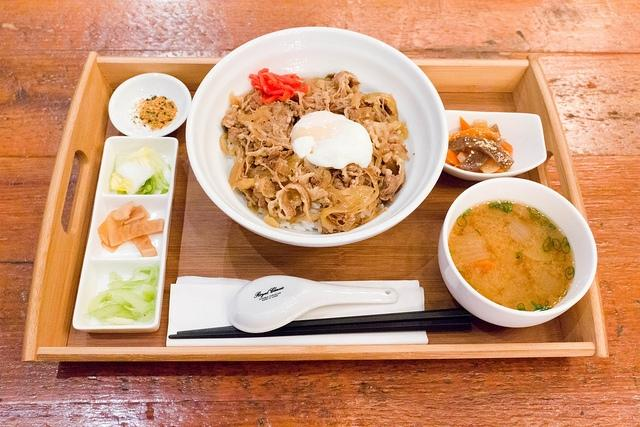green onion: (565, 266, 575, 280), (502, 201, 512, 213), (552, 237, 561, 250), (462, 208, 472, 218), (530, 210, 538, 218), (562, 237, 568, 247), (516, 252, 522, 260), (518, 303, 524, 309), (541, 220, 547, 225), (536, 304, 542, 308)
